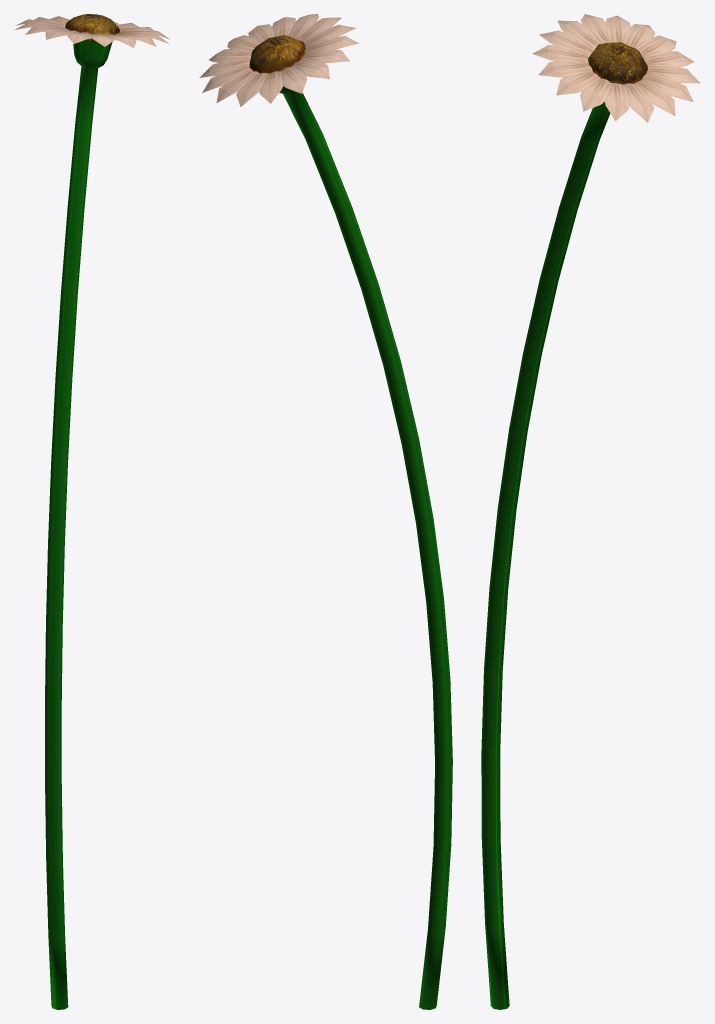
File: flower_B_c02.fbx
The picture shows the model from 3 angles, left to right: view 1: azimuth 30°, elevation 25°; view 2: azimuth 150°, elevation 25°; view 3: azimuth 270°, elevation 25°; orthographic projection. The views are drawn at different scales.
Parts seen in each view (by area): view 1: flowerB_c2; view 2: flowerB_c2; view 3: flowerB_c2.
Boxes of the visible parts, left/top/right/bottom form: flowerB_c2: left=14, top=14, right=169, bottom=1009; flowerB_c2: left=199, top=14, right=452, bottom=1009; flowerB_c2: left=481, top=14, right=700, bottom=1009.
Size of the model in its own units: 4.56 by 23.68 by 4.66.
